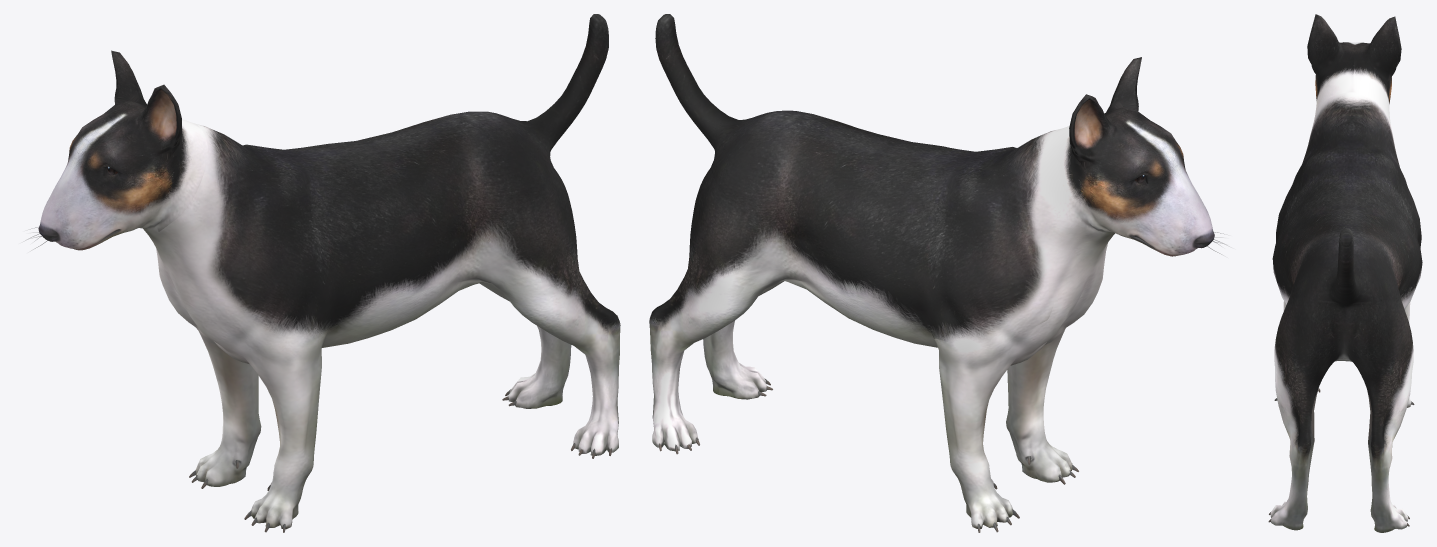
3 views of the same model, side by side, from view 1: azimuth 30°, elevation 25°; view 2: azimuth 150°, elevation 25°; view 3: azimuth 270°, elevation 25° (orthographic). The views are drawn at different scales.
Parts seen in each view (by area): view 1: Material5-material-material, Material6-material-material, Material4-material-material; view 2: Material5-material-material, Material6-material-material, Material4-material-material; view 3: Material5-material-material, Material6-material-material, Material4-material-material.
Boxes of the visible parts, x1,y1,x2,y2 form: Material5-material-material: (144, 14, 608, 363); Material6-material-material: (189, 238, 620, 532); Material4-material-material: (38, 50, 207, 250); Material5-material-material: (655, 14, 1115, 365); Material6-material-material: (649, 237, 1078, 532); Material4-material-material: (1046, 57, 1214, 256); Material5-material-material: (1272, 92, 1422, 367); Material6-material-material: (1268, 301, 1414, 532); Material4-material-material: (1307, 14, 1401, 116).
Size of the model in its own units: 0.9008 by 0.6827 by 0.2697.
6 materials, 6 textured.
